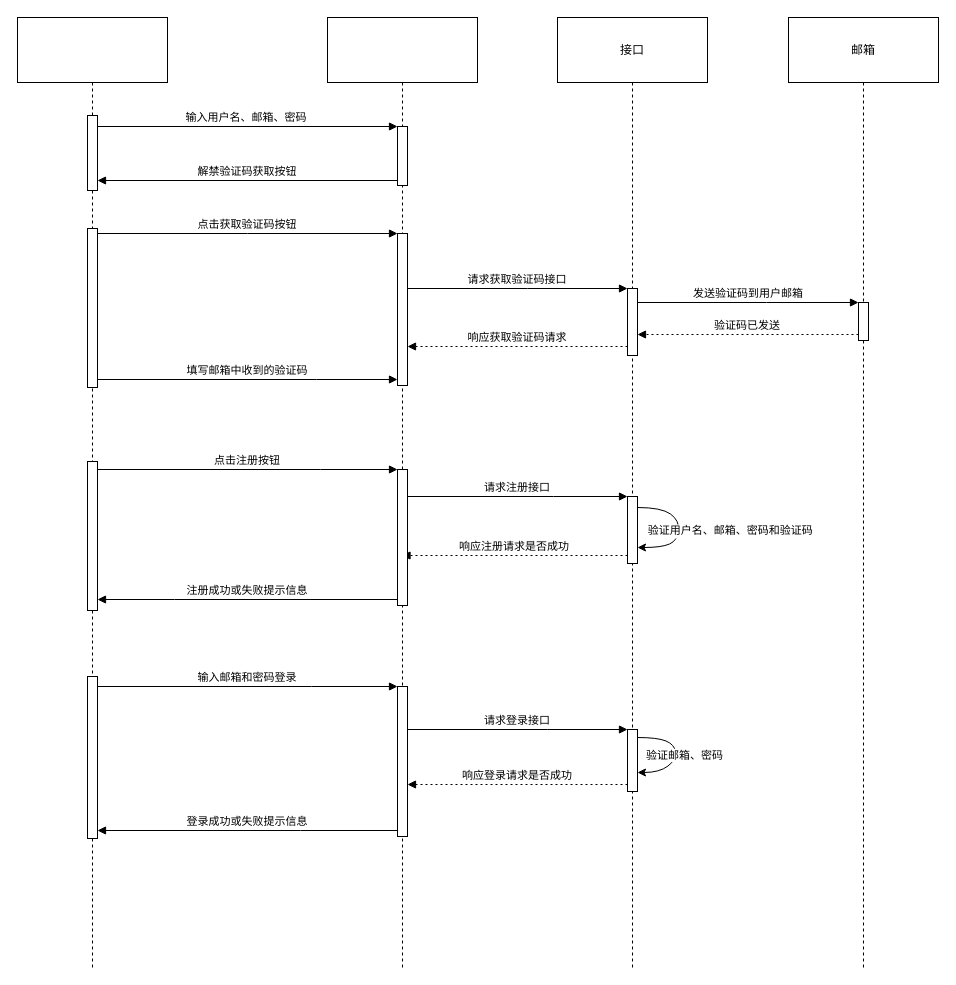
Image size: 956x985. Some labels were removed from this diagram. The shapes that lost their labels are listed below. From the top down, each one's box as (x1, y1, x2, y2) in pixels, then its label:
(16, 16, 168, 968): 用户
(326, 16, 478, 968): Web页面
